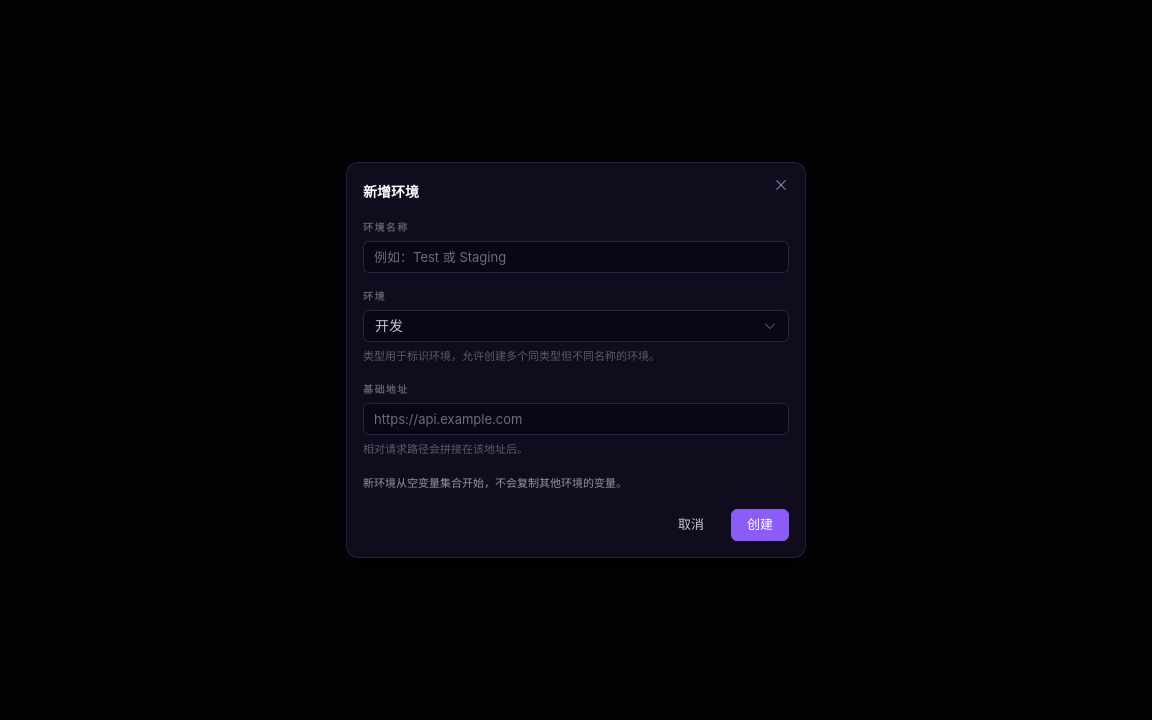
EnvironmentCreateDialog › keeps the form open and the input intact when creation fails
Type "Test EU" into the field labelled "环境名称". click: (576, 257)
box: [374,242,778,272]
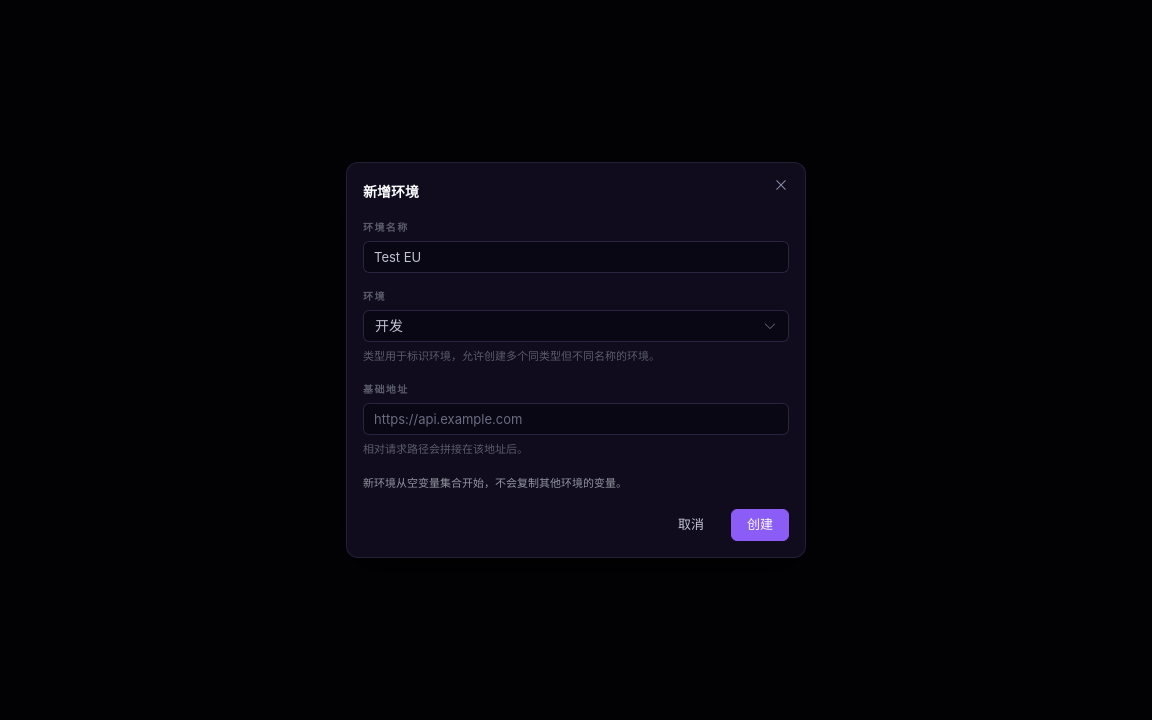
Type "https://eu.test.example.com" into the field labelled "基础地址 相对请求路径会拼接在该地址后。". click: (576, 419)
box: [374,404,778,434]
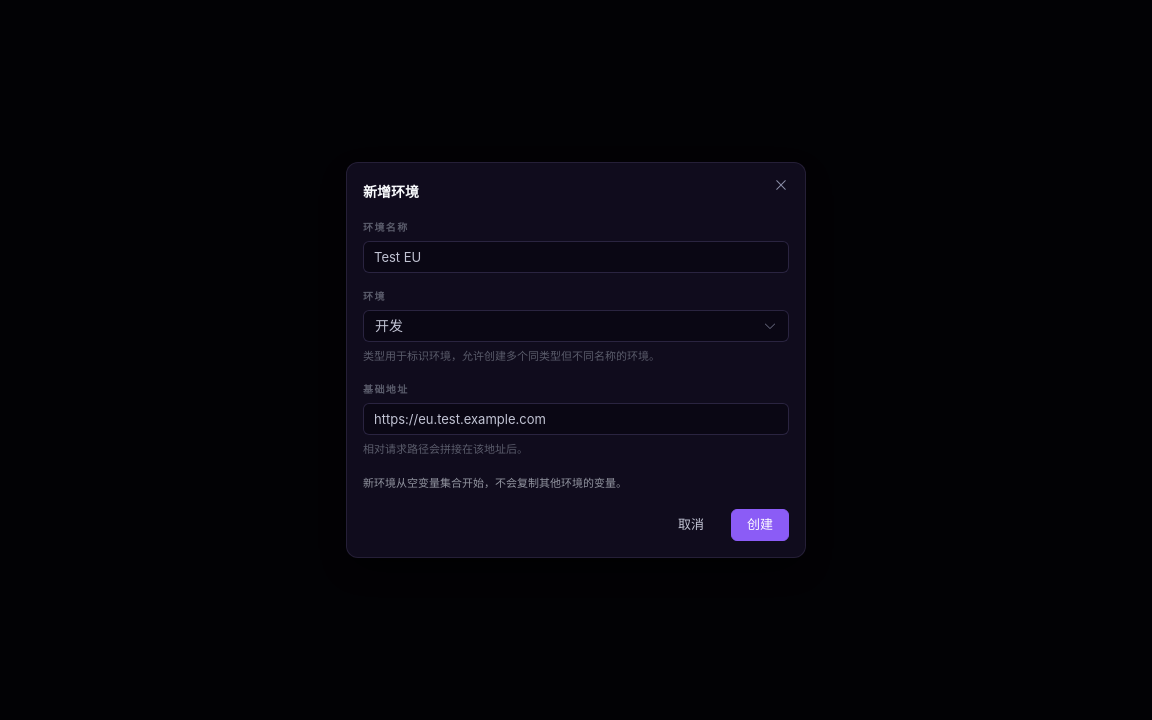
Click the button "创建". click: (760, 525)
box: [731,509,789,541]
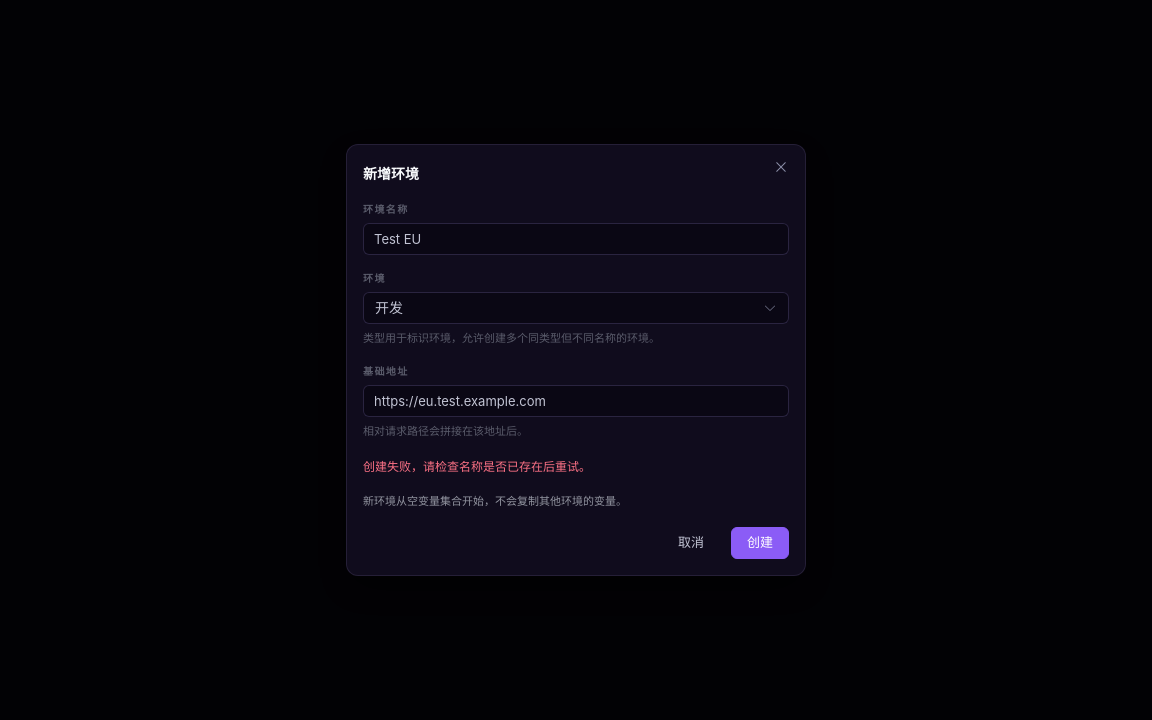
Expected: the text "创建失败，请检查名称是否已存在后重试。" is shown, [363,459,591,474]
